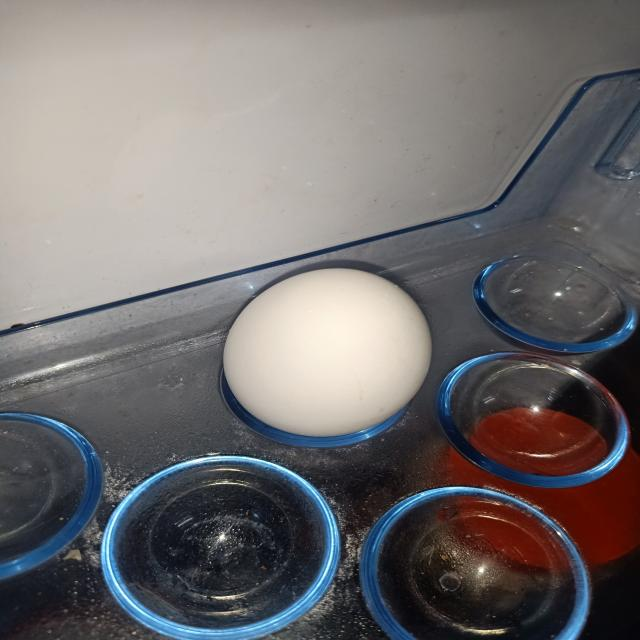Egg: (216, 258, 438, 453)
